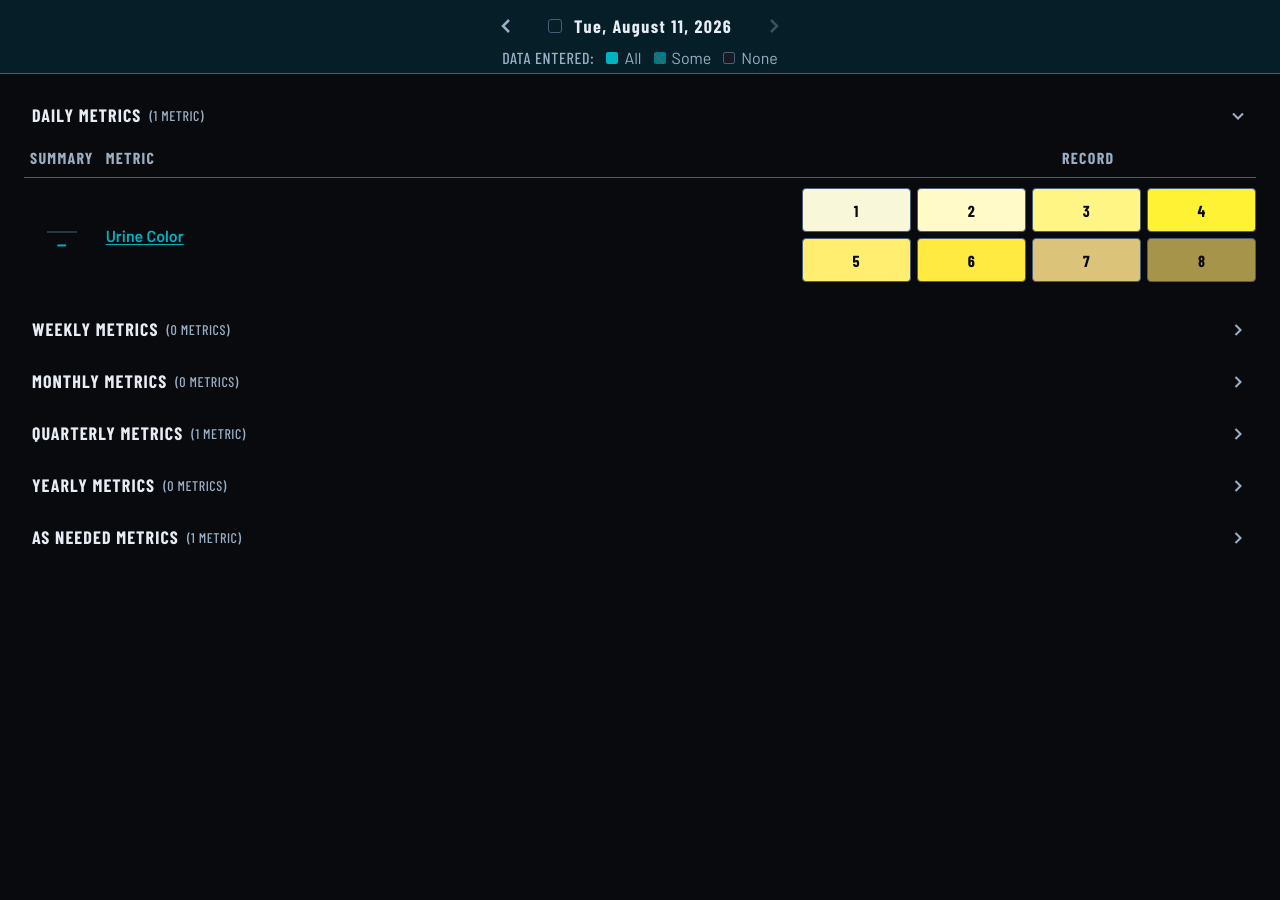
Scenario: MetricsDataEntryLog › time-formatted summary cells › formats a time performance metric's Latest cell instead of the raw decimal
Click the button "Quarterly Metrics (1 metric)". click: point(108, 433)
box: [24,412,1256,456]
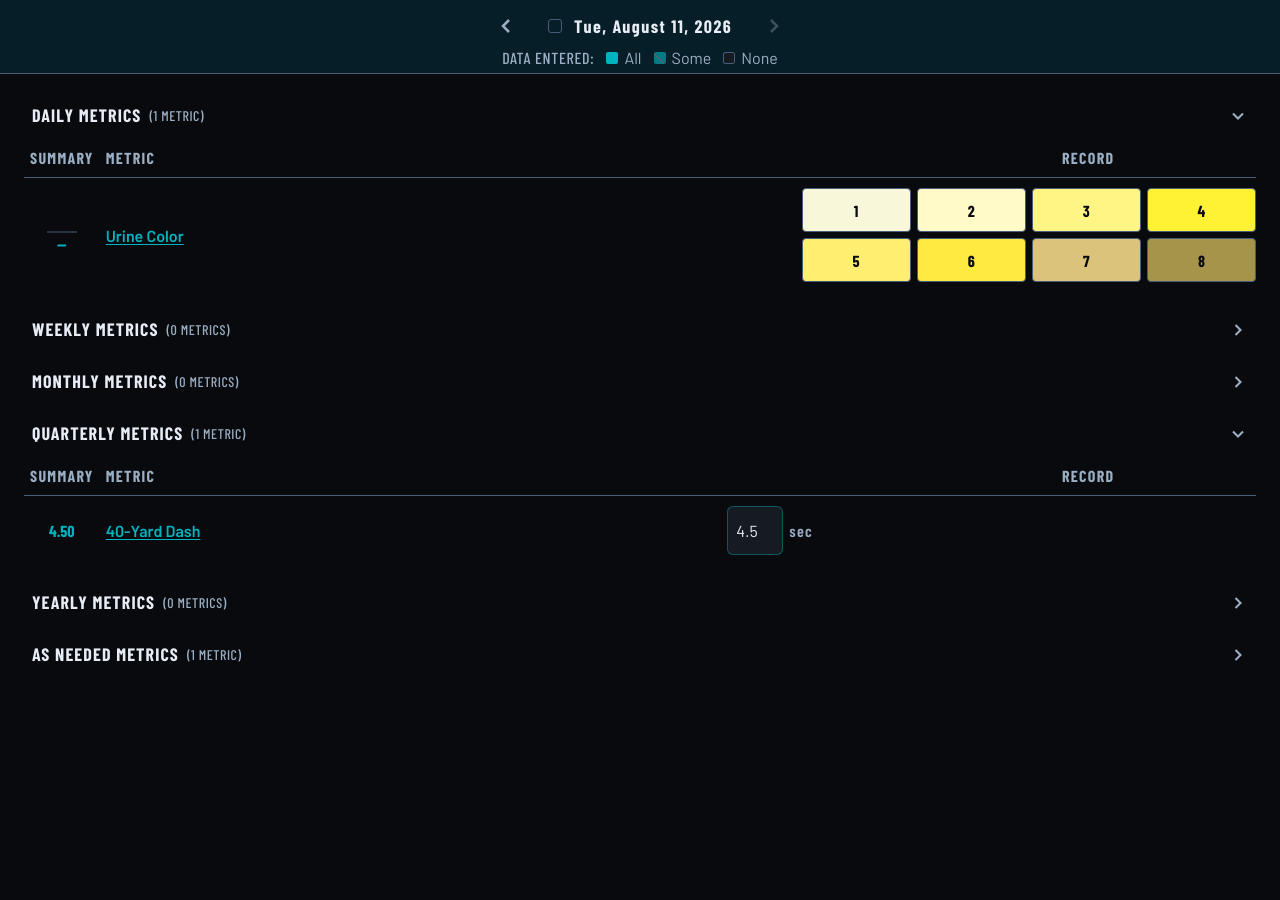
Check: the cell "4.50" is shown, box [24,496,100,565]
